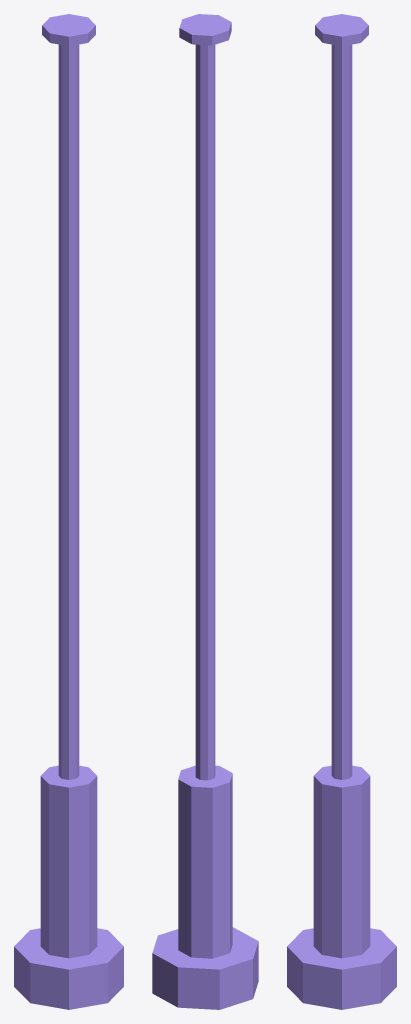
The model's file is signpost_pole_4signs_a01.glb.
The picture shows the model from 3 angles, left to right: view 1: azimuth 90°, elevation 25°; view 2: azimuth 150°, elevation 25°; view 3: azimuth 270°, elevation 25°; orthographic projection.
Parts seen in each view (by area): view 1: signpost 4; view 2: signpost 4; view 3: signpost 4.
Part boxes in pixels (x1,y1,x2,y2): signpost 4: [14, 14, 123, 1009]; signpost 4: [152, 14, 258, 1009]; signpost 4: [287, 14, 396, 1009].
Size of the model in its own units: 0.9935 by 9.59 by 0.9935.
